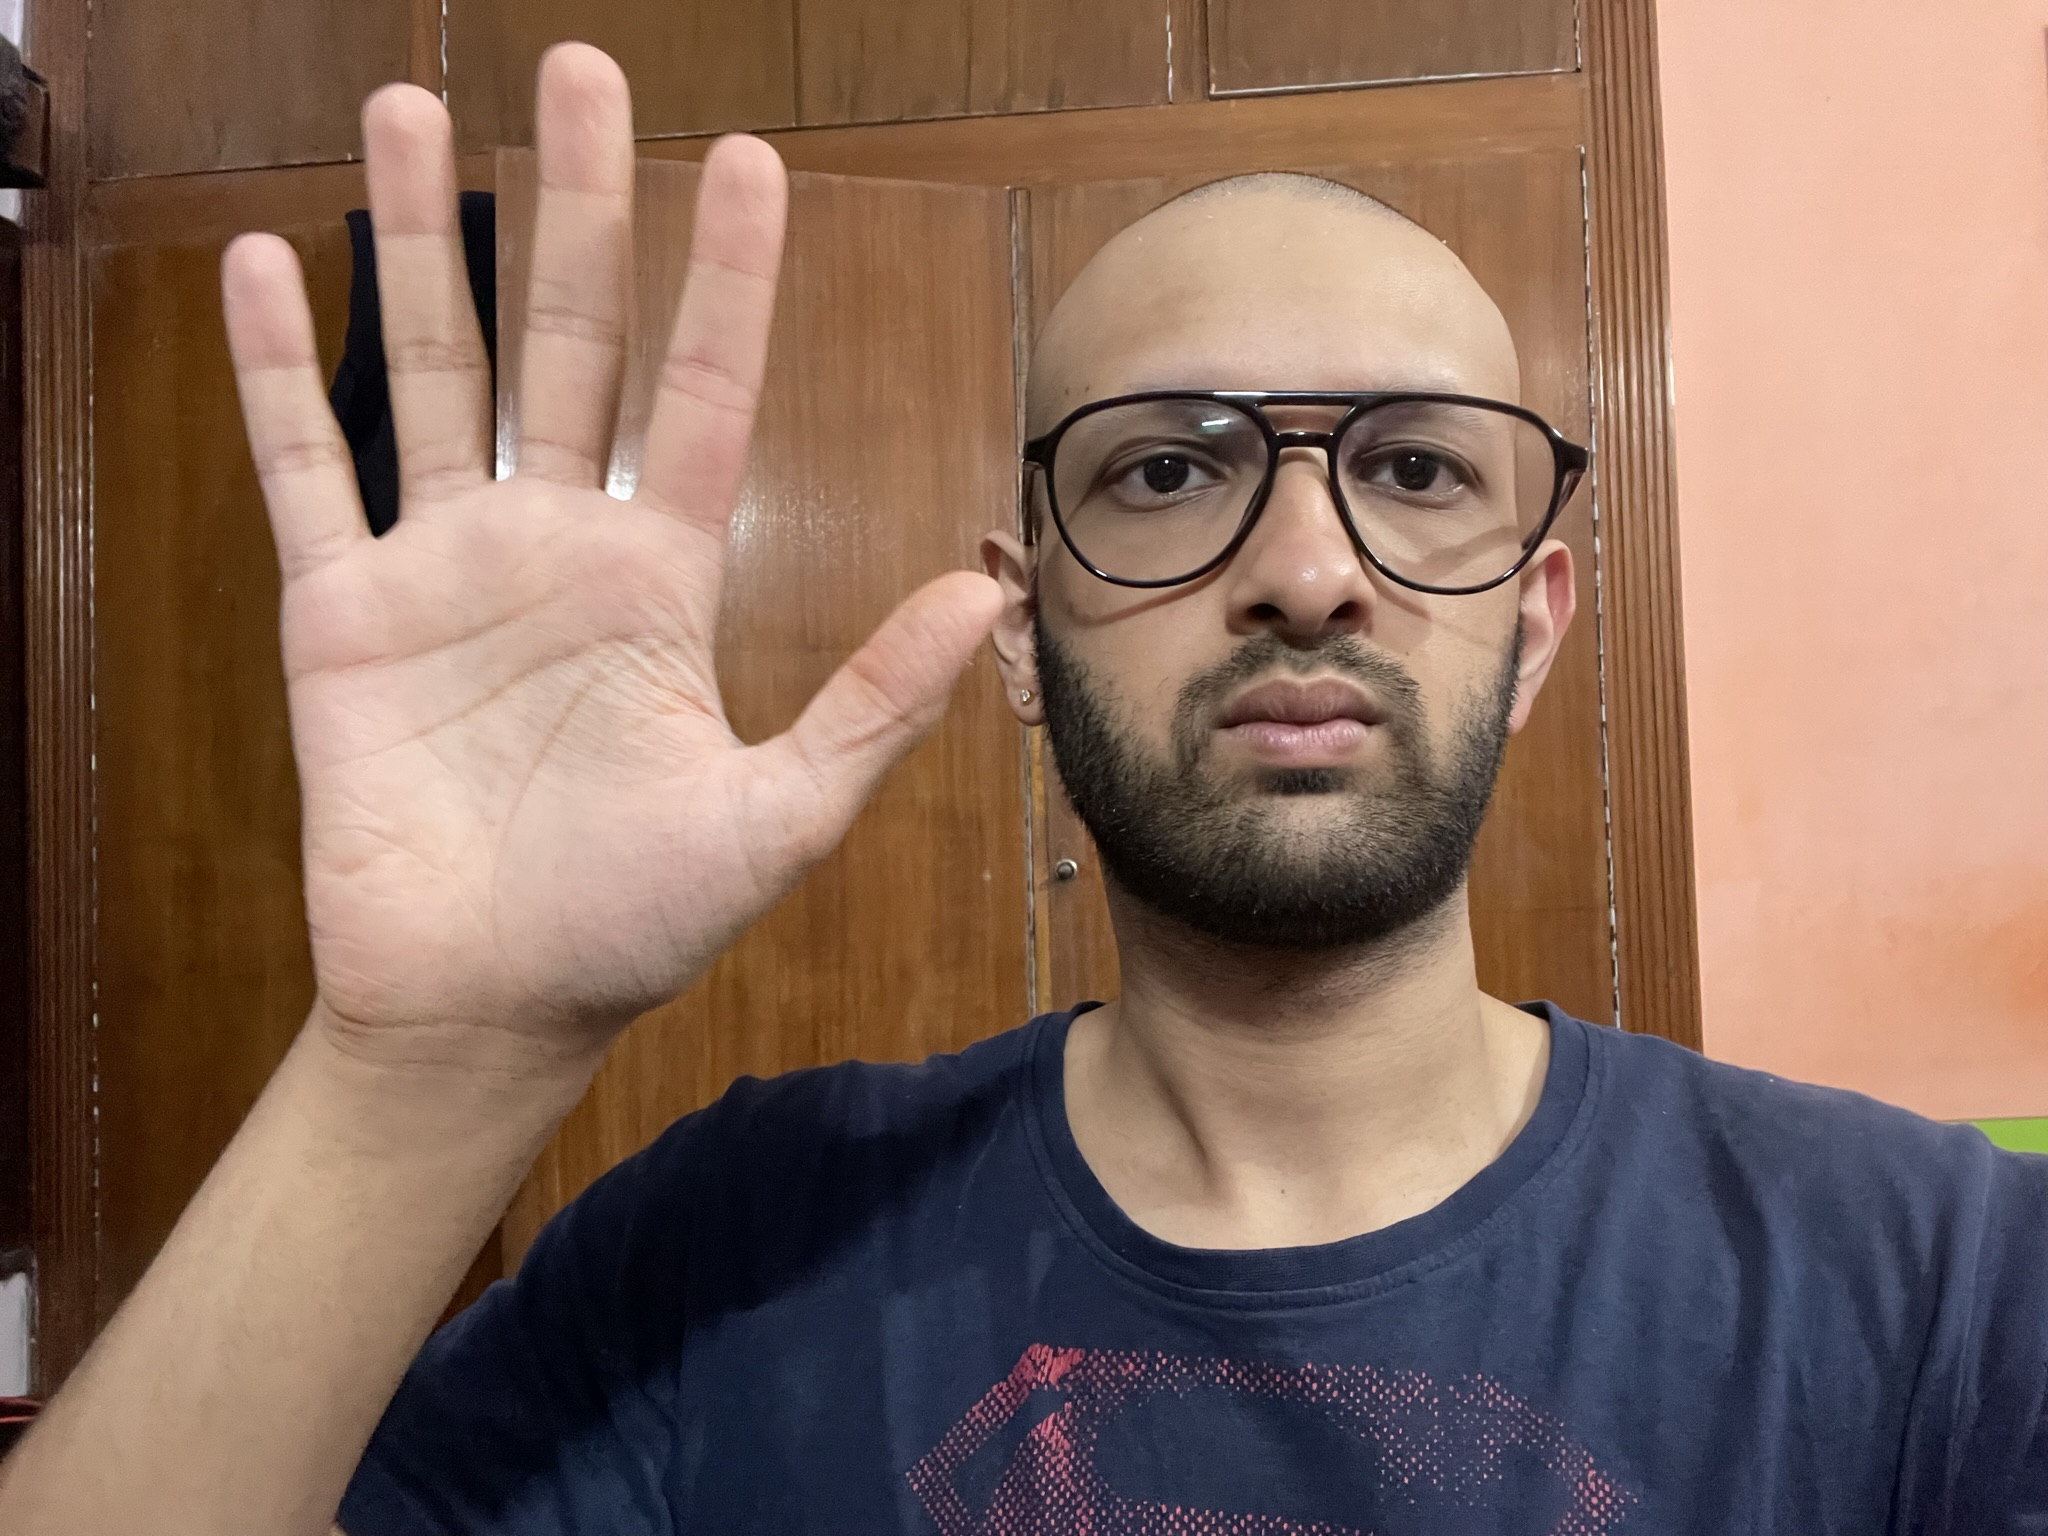Hello: (210, 39, 1006, 1047)
